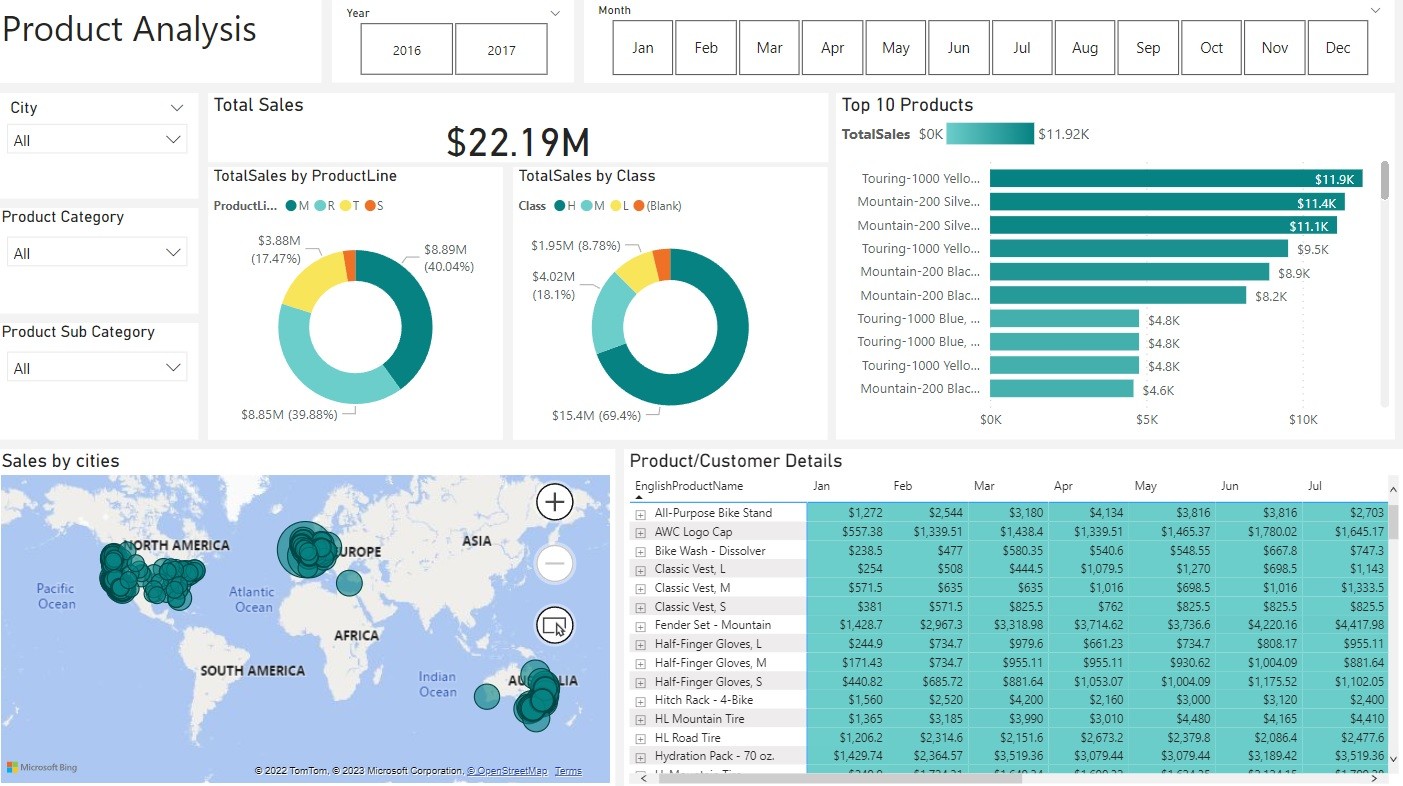

This screenshot's page, from the dashboard's own definition file:
{"tool":"powerbi","page":{"name":"Product Analysis","canvas":[1280,720],"ordinal":2},"visuals":[{"type":"textbox","box":[0,0,296.4,77.9],"z":0},{"type":"slicer","fields":{"Values":["Dim_Date.Year"]},"box":[305.4,2.7,220.3,75.2],"z":1000},{"type":"slicer","title":"Product Category","fields":{"Values":["Dim_Product.Category"]},"box":[0,191.6,183.6,95.8],"z":2000},{"type":"slicer","title":"Product Sub Category","fields":{"Values":["Dim_Product.Sub Category"]},"box":[0,296.4,183.6,105.7],"z":3000},{"type":"slicer","fields":{"Values":["Dim_Customer.City"]},"box":[0,86.9,183.6,95.8],"z":4000},{"type":"slicer","fields":{"Values":["Dim_Date.Month"]},"box":[534.6,0,737,77.9],"z":5000},{"type":"barChart","title":"Top 10 Products","fields":{"Y":["Fact_Internet_Sales.TotalSales"],"Category":["Dim_Product.EnglishProductName"]},"box":[763.9,86.9,507.8,315.2],"z":6000},{"type":"map","title":"Sales by cities","fields":{"Category":["Dim_Customer.City"],"Size":["Fact_Internet_Sales.TotalSales"]},"box":[0,410.9,562.7,309.1],"z":7000},{"type":"donutChart","fields":{"Y":["Fact_Internet_Sales.TotalSales"],"Category":["Dim_Product.Class"]},"box":[470,154.5,286.4,248.2],"z":8000},{"type":"pivotTable","title":"Product/Customer Details","fields":{"Rows":["Dim_Product.EnglishProductName","Dim_Customer.Full Name"],"Columns":["Dim_Date.Month"],"Values":["Fact_Internet_Sales.TotalSales"]},"box":[570.9,410.9,709.1,309.1],"z":9000},{"type":"donutChart","fields":{"Y":["Fact_Internet_Sales.TotalSales"],"Category":["Dim_Product.ProductLine"]},"box":[192.7,154.5,268.2,248.2],"z":10000},{"type":"card","title":"Total Sales","fields":{"Values":["Fact_Internet_Sales.TotalSales"]},"box":[192.7,87.3,563.6,62.7],"z":10001}]}

Visuals, with their boxes in screenshot pixels (x1, y1, x2, y2), scaled from the page's 1280x720 canvas onto the 1403x786 screenshot:
textbox: region(0, 0, 325, 85)
slicer - Dim_Date.Year: region(335, 3, 576, 85)
"Product Category" slicer: region(0, 209, 201, 314)
"Product Sub Category" slicer: region(0, 324, 201, 439)
slicer - Dim_Customer.City: region(0, 95, 201, 199)
slicer - Dim_Date.Month: region(586, 0, 1394, 85)
"Top 10 Products" barChart: region(837, 95, 1394, 439)
"Sales by cities" map: region(0, 449, 617, 785)
donutChart - Fact_Internet_Sales.TotalSales x Dim_Product.Class: region(515, 169, 829, 440)
"Product/Customer Details" pivotTable: region(626, 449, 1402, 785)
donutChart - Fact_Internet_Sales.TotalSales x Dim_Product.ProductLine: region(211, 169, 505, 440)
"Total Sales" card: region(211, 95, 829, 164)
